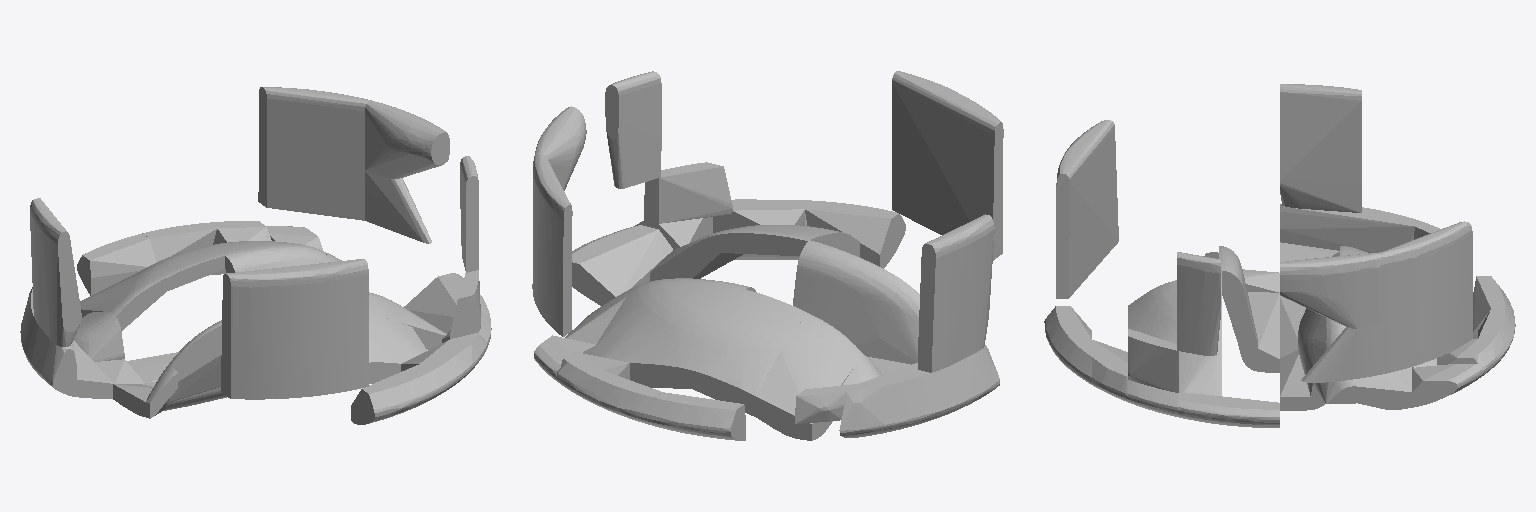
--- Render facts (derived) ---
3 views of the same robot in one strip: view 1: azimuth 30°, elevation 25°; view 2: azimuth 150°, elevation 25°; view 3: azimuth 270°, elevation 25° (orthographic).
Model root with 69 links and 68 joints (68 fixed), rooted at link_coacd_convex_piece_0, posed all joints at 0.
Visible links, largest first — view 1: link_coacd_convex_piece_10, link_coacd_convex_piece_5, link_coacd_convex_piece_2, link_coacd_convex_piece_29, link_coacd_convex_piece_56, link_coacd_convex_piece_40, link_coacd_convex_piece_16, link_coacd_convex_piece_15, link_coacd_convex_piece_21, link_coacd_convex_piece_12, link_coacd_convex_piece_35, link_coacd_convex_piece_34 (+18 smaller); view 2: link_coacd_convex_piece_10, link_coacd_convex_piece_4, link_coacd_convex_piece_15, link_coacd_convex_piece_2, link_coacd_convex_piece_32, link_coacd_convex_piece_35, link_coacd_convex_piece_21, link_coacd_convex_piece_5, link_coacd_convex_piece_36, link_coacd_convex_piece_34, link_coacd_convex_piece_55, link_coacd_convex_piece_56 (+14 smaller); view 3: link_coacd_convex_piece_5, link_coacd_convex_piece_2, link_coacd_convex_piece_10, link_coacd_convex_piece_29, link_coacd_convex_piece_35, link_coacd_convex_piece_36, link_coacd_convex_piece_16, link_coacd_convex_piece_34, link_coacd_convex_piece_55, link_coacd_convex_piece_56, link_coacd_convex_piece_23, link_coacd_convex_piece_12 (+15 smaller).
Link boxes in pixels (<box>): link_coacd_convex_piece_10: <box>221,259,368,399</box>; link_coacd_convex_piece_5: <box>258,87,371,220</box>; link_coacd_convex_piece_2: <box>30,198,81,346</box>; link_coacd_convex_piece_29: <box>365,101,449,178</box>; link_coacd_convex_piece_56: <box>351,355,472,424</box>; link_coacd_convex_piece_40: <box>77,234,156,295</box>; link_coacd_convex_piece_16: <box>365,171,431,243</box>; link_coacd_convex_piece_15: <box>167,320,221,402</box>; link_coacd_convex_piece_21: <box>80,272,166,331</box>; link_coacd_convex_piece_12: <box>369,315,426,383</box>; link_coacd_convex_piece_35: <box>20,287,76,385</box>; link_coacd_convex_piece_34: <box>404,273,489,333</box>; link_coacd_convex_piece_10: <box>892,71,1003,260</box>; link_coacd_convex_piece_4: <box>590,279,745,388</box>; link_coacd_convex_piece_15: <box>793,240,919,364</box>; link_coacd_convex_piece_2: <box>918,214,994,372</box>; link_coacd_convex_piece_32: <box>692,290,808,416</box>; link_coacd_convex_piece_35: <box>839,345,999,434</box>; link_coacd_convex_piece_21: <box>756,314,864,440</box>; link_coacd_convex_piece_5: <box>532,154,572,336</box>; link_coacd_convex_piece_36: <box>605,71,661,188</box>; link_coacd_convex_piece_34: <box>572,225,672,305</box>; link_coacd_convex_piece_55: <box>644,162,732,223</box>; link_coacd_convex_piece_56: <box>769,200,905,268</box>; link_coacd_convex_piece_5: <box>1381,221,1472,374</box>; link_coacd_convex_piece_2: <box>1280,84,1361,212</box>; link_coacd_convex_piece_10: <box>1056,120,1118,298</box>; link_coacd_convex_piece_29: <box>1280,252,1380,328</box>; link_coacd_convex_piece_35: <box>1280,204,1434,252</box>; link_coacd_convex_piece_36: <box>1177,252,1220,355</box>; link_coacd_convex_piece_16: <box>1301,324,1380,382</box>; link_coacd_convex_piece_34: <box>1179,392,1279,427</box>; link_coacd_convex_piece_55: <box>1128,329,1178,392</box>; link_coacd_convex_piece_56: <box>1044,306,1091,384</box>; link_coacd_convex_piece_23: <box>1238,292,1279,372</box>; link_coacd_convex_piece_12: <box>1128,280,1176,343</box>.
Bounding box of the posed robot: 0.1286 × 0.129 × 0.0606 m (x, y, z).
37 mesh visuals loaded from 69 distinct referenced files (37 OBJ); not drawn: 32 (reference not matched to a file when rendering).

URDF robot description (root):
<robot name="root">
  <link name="link_coacd_convex_piece_0">
    <inertial>
      <origin xyz="0 0 0" rpy="0 0 0"/>
      <inertia ixx="8.43E-09" ixy="2.54E-09" ixz="-7.29E-10" iyy="1.83E-09" iyz="2.19E-09" izz="8.88E-09"/>
    </inertial>
    <visual>
      <origin xyz="0 0 0" rpy="0 0 0"/>
      <geometry>
        <mesh filename="coacd_convex_piece_0.obj" scale="1.0000E+00 1.0000E+00 1.0000E+00"/>
      </geometry>
      <material name="">
        <color rgba="7.50E-01 7.50E-01 7.50E-01 1"/>
      </material>
    </visual>
    <collision>
      <origin xyz="0 0 0" rpy="0 0 0"/>
      <geometry>
        <mesh filename="coacd_convex_piece_0.obj" scale="1.0000E+00 1.0000E+00 1.0000E+00"/>
      </geometry>
    </collision>
  </link>
  <link name="link_coacd_convex_piece_1">
    <inertial>
      <origin xyz="0 0 0" rpy="0 0 0"/>
      <inertia ixx="2.42E-09" ixy="2.31E-09" ixz="-9.57E-10" iyy="3.14E-09" iyz="8.24E-10" izz="4.80E-09"/>
    </inertial>
    <visual>
      <origin xyz="0 0 0" rpy="0 0 0"/>
      <geometry>
        <mesh filename="coacd_convex_piece_1.obj" scale="1.0000E+00 1.0000E+00 1.0000E+00"/>
      </geometry>
      <material name="">
        <color rgba="7.50E-01 7.50E-01 7.50E-01 1"/>
      </material>
    </visual>
    <collision>
      <origin xyz="0 0 0" rpy="0 0 0"/>
      <geometry>
        <mesh filename="coacd_convex_piece_1.obj" scale="1.0000E+00 1.0000E+00 1.0000E+00"/>
      </geometry>
    </collision>
  </link>
  <joint name="link_coacd_convex_piece_1_joint" type="fixed">
    <origin xyz="0 0 0" rpy="0 0 0"/>
    <parent link="link_coacd_convex_piece_0"/>
    <child link="link_coacd_convex_piece_1"/>
  </joint>
  <link name="link_coacd_convex_piece_2">
    <inertial>
      <origin xyz="0 0 0" rpy="0 0 0"/>
      <inertia ixx="6.07E-10" ixy="1.21E-09" ixz="1.16E-09" iyy="6.83E-09" iyz="-2.22E-10" izz="6.83E-09"/>
    </inertial>
    <visual>
      <origin xyz="0 0 0" rpy="0 0 0"/>
      <geometry>
        <mesh filename="coacd_convex_piece_2.obj" scale="1.0000E+00 1.0000E+00 1.0000E+00"/>
      </geometry>
      <material name="">
        <color rgba="7.50E-01 7.50E-01 7.50E-01 1"/>
      </material>
    </visual>
    <collision>
      <origin xyz="0 0 0" rpy="0 0 0"/>
      <geometry>
        <mesh filename="coacd_convex_piece_2.obj" scale="1.0000E+00 1.0000E+00 1.0000E+00"/>
      </geometry>
    </collision>
  </link>
  <joint name="link_coacd_convex_piece_2_joint" type="fixed">
    <origin xyz="0 0 0" rpy="0 0 0"/>
    <parent link="link_coacd_convex_piece_1"/>
    <child link="link_coacd_convex_piece_2"/>
  </joint>
  <link name="link_coacd_convex_piece_3">
    <inertial>
      <origin xyz="0 0 0" rpy="0 0 0"/>
      <inertia ixx="2.71E-09" ixy="-2.70E-09" ixz="7.32E-10" iyy="3.40E-09" iyz="6.28E-10" izz="5.57E-09"/>
    </inertial>
    <visual>
      <origin xyz="0 0 0" rpy="0 0 0"/>
      <geometry>
        <mesh filename="coacd_convex_piece_3.obj" scale="1.0000E+00 1.0000E+00 1.0000E+00"/>
      </geometry>
      <material name="">
        <color rgba="7.50E-01 7.50E-01 7.50E-01 1"/>
      </material>
    </visual>
    <collision>
      <origin xyz="0 0 0" rpy="0 0 0"/>
      <geometry>
        <mesh filename="coacd_convex_piece_3.obj" scale="1.0000E+00 1.0000E+00 1.0000E+00"/>
      </geometry>
    </collision>
  </link>
  <joint name="link_coacd_convex_piece_3_joint" type="fixed">
    <origin xyz="0 0 0" rpy="0 0 0"/>
    <parent link="link_coacd_convex_piece_2"/>
    <child link="link_coacd_convex_piece_3"/>
  </joint>
  <link name="link_coacd_convex_piece_4">
    <inertial>
      <origin xyz="0 0 0" rpy="0 0 0"/>
      <inertia ixx="2.99E-09" ixy="-1.37E-09" ixz="5.23E-10" iyy="1.16E-09" iyz="9.21E-10" izz="3.71E-09"/>
    </inertial>
    <visual>
      <origin xyz="0 0 0" rpy="0 0 0"/>
      <geometry>
        <mesh filename="coacd_convex_piece_4.obj" scale="1.0000E+00 1.0000E+00 1.0000E+00"/>
      </geometry>
      <material name="">
        <color rgba="7.50E-01 7.50E-01 7.50E-01 1"/>
      </material>
    </visual>
    <collision>
      <origin xyz="0 0 0" rpy="0 0 0"/>
      <geometry>
        <mesh filename="coacd_convex_piece_4.obj" scale="1.0000E+00 1.0000E+00 1.0000E+00"/>
      </geometry>
    </collision>
  </link>
  <joint name="link_coacd_convex_piece_4_joint" type="fixed">
    <origin xyz="0 0 0" rpy="0 0 0"/>
    <parent link="link_coacd_convex_piece_3"/>
    <child link="link_coacd_convex_piece_4"/>
  </joint>
  <link name="link_coacd_convex_piece_5">
    <inertial>
      <origin xyz="0 0 0" rpy="0 0 0"/>
      <inertia ixx="4.35E-09" ixy="-3.95E-09" ixz="-1.20E-09" iyy="4.88E-09" iyz="-1.14E-09" izz="8.25E-09"/>
    </inertial>
    <visual>
      <origin xyz="0 0 0" rpy="0 0 0"/>
      <geometry>
        <mesh filename="coacd_convex_piece_5.obj" scale="1.0000E+00 1.0000E+00 1.0000E+00"/>
      </geometry>
      <material name="">
        <color rgba="7.50E-01 7.50E-01 7.50E-01 1"/>
      </material>
    </visual>
    <collision>
      <origin xyz="0 0 0" rpy="0 0 0"/>
      <geometry>
        <mesh filename="coacd_convex_piece_5.obj" scale="1.0000E+00 1.0000E+00 1.0000E+00"/>
      </geometry>
    </collision>
  </link>
  <joint name="link_coacd_convex_piece_5_joint" type="fixed">
    <origin xyz="0 0 0" rpy="0 0 0"/>
    <parent link="link_coacd_convex_piece_4"/>
    <child link="link_coacd_convex_piece_5"/>
  </joint>
  <link name="link_coacd_convex_piece_6">
    <inertial>
      <origin xyz="0 0 0" rpy="0 0 0"/>
      <inertia ixx="1.46E-09" ixy="-2.72E-09" ixz="1.82E-09" iyy="1.08E-08" iyz="4.65E-10" izz="1.13E-08"/>
    </inertial>
    <visual>
      <origin xyz="0 0 0" rpy="0 0 0"/>
      <geometry>
        <mesh filename="coacd_convex_piece_6.obj" scale="1.0000E+00 1.0000E+00 1.0000E+00"/>
      </geometry>
      <material name="">
        <color rgba="7.50E-01 7.50E-01 7.50E-01 1"/>
      </material>
    </visual>
    <collision>
      <origin xyz="0 0 0" rpy="0 0 0"/>
      <geometry>
        <mesh filename="coacd_convex_piece_6.obj" scale="1.0000E+00 1.0000E+00 1.0000E+00"/>
      </geometry>
    </collision>
  </link>
  <joint name="link_coacd_convex_piece_6_joint" type="fixed">
    <origin xyz="0 0 0" rpy="0 0 0"/>
    <parent link="link_coacd_convex_piece_5"/>
    <child link="link_coacd_convex_piece_6"/>
  </joint>
  <link name="link_coacd_convex_piece_7">
    <inertial>
      <origin xyz="0 0 0" rpy="0 0 0"/>
      <inertia ixx="1.11E-08" ixy="-2.91E-09" ixz="-4.55E-10" iyy="1.68E-09" iyz="-1.70E-09" izz="1.16E-08"/>
    </inertial>
    <visual>
      <origin xyz="0 0 0" rpy="0 0 0"/>
      <geometry>
        <mesh filename="coacd_convex_piece_7.obj" scale="1.0000E+00 1.0000E+00 1.0000E+00"/>
      </geometry>
      <material name="">
        <color rgba="7.50E-01 7.50E-01 7.50E-01 1"/>
      </material>
    </visual>
    <collision>
      <origin xyz="0 0 0" rpy="0 0 0"/>
      <geometry>
        <mesh filename="coacd_convex_piece_7.obj" scale="1.0000E+00 1.0000E+00 1.0000E+00"/>
      </geometry>
    </collision>
  </link>
  <joint name="link_coacd_convex_piece_7_joint" type="fixed">
    <origin xyz="0 0 0" rpy="0 0 0"/>
    <parent link="link_coacd_convex_piece_6"/>
    <child link="link_coacd_convex_piece_7"/>
  </joint>
  <link name="link_coacd_convex_piece_8">
    <inertial>
      <origin xyz="0 0 0" rpy="0 0 0"/>
      <inertia ixx="4.39E-09" ixy="4.63E-09" ixz="1.43E-09" iyy="6.62E-09" iyz="-1.12E-09" izz="1.00E-08"/>
    </inertial>
    <visual>
      <origin xyz="0 0 0" rpy="0 0 0"/>
      <geometry>
        <mesh filename="coacd_convex_piece_8.obj" scale="1.0000E+00 1.0000E+00 1.0000E+00"/>
      </geometry>
      <material name="">
        <color rgba="7.50E-01 7.50E-01 7.50E-01 1"/>
      </material>
    </visual>
    <collision>
      <origin xyz="0 0 0" rpy="0 0 0"/>
      <geometry>
        <mesh filename="coacd_convex_piece_8.obj" scale="1.0000E+00 1.0000E+00 1.0000E+00"/>
      </geometry>
    </collision>
  </link>
  <joint name="link_coacd_convex_piece_8_joint" type="fixed">
    <origin xyz="0 0 0" rpy="0 0 0"/>
    <parent link="link_coacd_convex_piece_7"/>
    <child link="link_coacd_convex_piece_8"/>
  </joint>
  <link name="link_coacd_convex_piece_9">
    <inertial>
      <origin xyz="0 0 0" rpy="0 0 0"/>
      <inertia ixx="1.26E-08" ixy="3.76E-09" ixz="6.31E-10" iyy="2.24E-09" iyz="-1.89E-09" izz="1.36E-08"/>
    </inertial>
    <visual>
      <origin xyz="0 0 0" rpy="0 0 0"/>
      <geometry>
        <mesh filename="coacd_convex_piece_9.obj" scale="1.0000E+00 1.0000E+00 1.0000E+00"/>
      </geometry>
      <material name="">
        <color rgba="7.50E-01 7.50E-01 7.50E-01 1"/>
      </material>
    </visual>
    <collision>
      <origin xyz="0 0 0" rpy="0 0 0"/>
      <geometry>
        <mesh filename="coacd_convex_piece_9.obj" scale="1.0000E+00 1.0000E+00 1.0000E+00"/>
      </geometry>
    </collision>
  </link>
  <joint name="link_coacd_convex_piece_9_joint" type="fixed">
    <origin xyz="0 0 0" rpy="0 0 0"/>
    <parent link="link_coacd_convex_piece_8"/>
    <child link="link_coacd_convex_piece_9"/>
  </joint>
  <link name="link_coacd_convex_piece_10">
    <inertial>
      <origin xyz="0 0 0" rpy="0 0 0"/>
      <inertia ixx="1.24E-08" ixy="-3.92E-09" ixz="7.95E-10" iyy="2.49E-09" iyz="2.22E-09" izz="1.35E-08"/>
    </inertial>
    <visual>
      <origin xyz="0 0 0" rpy="0 0 0"/>
      <geometry>
        <mesh filename="coacd_convex_piece_10.obj" scale="1.0000E+00 1.0000E+00 1.0000E+00"/>
      </geometry>
      <material name="">
        <color rgba="7.50E-01 7.50E-01 7.50E-01 1"/>
      </material>
    </visual>
    <collision>
      <origin xyz="0 0 0" rpy="0 0 0"/>
      <geometry>
        <mesh filename="coacd_convex_piece_10.obj" scale="1.0000E+00 1.0000E+00 1.0000E+00"/>
      </geometry>
    </collision>
  </link>
  <joint name="link_coacd_convex_piece_10_joint" type="fixed">
    <origin xyz="0 0 0" rpy="0 0 0"/>
    <parent link="link_coacd_convex_piece_9"/>
    <child link="link_coacd_convex_piece_10"/>
  </joint>
  <link name="link_coacd_convex_piece_11">
    <inertial>
      <origin xyz="0 0 0" rpy="0 0 0"/>
      <inertia ixx="7.03E-10" ixy="1.09E-10" ixz="-4.55E-10" iyy="1.06E-09" iyz="1.51E-10" izz="4.53E-10"/>
    </inertial>
    <visual>
      <origin xyz="0 0 0" rpy="0 0 0"/>
      <geometry>
        <mesh filename="coacd_convex_piece_11.obj" scale="1.0000E+00 1.0000E+00 1.0000E+00"/>
      </geometry>
      <material name="">
        <color rgba="7.50E-01 7.50E-01 7.50E-01 1"/>
      </material>
    </visual>
    <collision>
      <origin xyz="0 0 0" rpy="0 0 0"/>
      <geometry>
        <mesh filename="coacd_convex_piece_11.obj" scale="1.0000E+00 1.0000E+00 1.0000E+00"/>
      </geometry>
    </collision>
  </link>
  <joint name="link_coacd_convex_piece_11_joint" type="fixed">
    <origin xyz="0 0 0" rpy="0 0 0"/>
    <parent link="link_coacd_convex_piece_10"/>
    <child link="link_coacd_convex_piece_11"/>
  </joint>
  <link name="link_coacd_convex_piece_12">
    <inertial>
      <origin xyz="0 0 0" rpy="0 0 0"/>
      <inertia ixx="1.92E-09" ixy="8.40E-10" ixz="3.29E-10" iyy="6.88E-10" iyz="-6.07E-10" izz="2.29E-09"/>
    </inertial>
    <visual>
      <origin xyz="0 0 0" rpy="0 0 0"/>
      <geometry>
        <mesh filename="coacd_convex_piece_12.obj" scale="1.0000E+00 1.0000E+00 1.0000E+00"/>
      </geometry>
      <material name="">
        <color rgba="7.50E-01 7.50E-01 7.50E-01 1"/>
      </material>
    </visual>
    <collision>
      <origin xyz="0 0 0" rpy="0 0 0"/>
      <geometry>
        <mesh filename="coacd_convex_piece_12.obj" scale="1.0000E+00 1.0000E+00 1.0000E+00"/>
      </geometry>
    </collision>
  </link>
  <joint name="link_coacd_convex_piece_12_joint" type="fixed">
    <origin xyz="0 0 0" rpy="0 0 0"/>
    <parent link="link_coacd_convex_piece_11"/>
    <child link="link_coacd_convex_piece_12"/>
  </joint>
  <link name="link_coacd_convex_piece_13">
    <inertial>
      <origin xyz="0 0 0" rpy="0 0 0"/>
      <inertia ixx="9.13E-10" ixy="1.00E-09" ixz="-1.28E-09" iyy="3.75E-09" iyz="3.92E-10" izz="3.74E-09"/>
    </inertial>
    <visual>
      <origin xyz="0 0 0" rpy="0 0 0"/>
      <geometry>
        <mesh filename="coacd_convex_piece_13.obj" scale="1.0000E+00 1.0000E+00 1.0000E+00"/>
      </geometry>
      <material name="">
        <color rgba="7.50E-01 7.50E-01 7.50E-01 1"/>
      </material>
    </visual>
    <collision>
      <origin xyz="0 0 0" rpy="0 0 0"/>
      <geometry>
        <mesh filename="coacd_convex_piece_13.obj" scale="1.0000E+00 1.0000E+00 1.0000E+00"/>
      </geometry>
    </collision>
  </link>
  <joint name="link_coacd_convex_piece_13_joint" type="fixed">
    <origin xyz="0 0 0" rpy="0 0 0"/>
    <parent link="link_coacd_convex_piece_12"/>
    <child link="link_coacd_convex_piece_13"/>
  </joint>
  <link name="link_coacd_convex_piece_14">
    <inertial>
      <origin xyz="0 0 0" rpy="0 0 0"/>
      <inertia ixx="2.77E-09" ixy="-5.36E-10" ixz="1.52E-10" iyy="3.27E-10" iyz="7.07E-10" izz="2.76E-09"/>
    </inertial>
    <visual>
      <origin xyz="0 0 0" rpy="0 0 0"/>
      <geometry>
        <mesh filename="coacd_convex_piece_14.obj" scale="1.0000E+00 1.0000E+00 1.0000E+00"/>
      </geometry>
      <material name="">
        <color rgba="7.50E-01 7.50E-01 7.50E-01 1"/>
      </material>
    </visual>
    <collision>
      <origin xyz="0 0 0" rpy="0 0 0"/>
      <geometry>
        <mesh filename="coacd_convex_piece_14.obj" scale="1.0000E+00 1.0000E+00 1.0000E+00"/>
      </geometry>
    </collision>
  </link>
  <joint name="link_coacd_convex_piece_14_joint" type="fixed">
    <origin xyz="0 0 0" rpy="0 0 0"/>
    <parent link="link_coacd_convex_piece_13"/>
    <child link="link_coacd_convex_piece_14"/>
  </joint>
  <link name="link_coacd_convex_piece_15">
    <inertial>
      <origin xyz="0 0 0" rpy="0 0 0"/>
      <inertia ixx="6.27E-10" ixy="-3.99E-10" ixz="-4.21E-10" iyy="1.01E-09" iyz="-3.09E-10" izz="9.96E-10"/>
    </inertial>
    <visual>
      <origin xyz="0 0 0" rpy="0 0 0"/>
      <geometry>
        <mesh filename="coacd_convex_piece_15.obj" scale="1.0000E+00 1.0000E+00 1.0000E+00"/>
      </geometry>
      <material name="">
        <color rgba="7.50E-01 7.50E-01 7.50E-01 1"/>
      </material>
    </visual>
    <collision>
      <origin xyz="0 0 0" rpy="0 0 0"/>
      <geometry>
        <mesh filename="coacd_convex_piece_15.obj" scale="1.0000E+00 1.0000E+00 1.0000E+00"/>
      </geometry>
    </collision>
  </link>
  <joint name="link_coacd_convex_piece_15_joint" type="fixed">
    <origin xyz="0 0 0" rpy="0 0 0"/>
    <parent link="link_coacd_convex_piece_14"/>
    <child link="link_coacd_convex_piece_15"/>
  </joint>
  <link name="link_coacd_convex_piece_16">
    <inertial>
      <origin xyz="0 0 0" rpy="0 0 0"/>
      <inertia ixx="1.78E-10" ixy="-4.85E-10" ixz="-1.95E-11" iyy="1.33E-09" iyz="-1.31E-11" izz="1.53E-09"/>
    </inertial>
    <visual>
      <origin xyz="0 0 0" rpy="0 0 0"/>
      <geometry>
        <mesh filename="coacd_convex_piece_16.obj" scale="1.0000E+00 1.0000E+00 1.0000E+00"/>
      </geometry>
      <material name="">
        <color rgba="7.50E-01 7.50E-01 7.50E-01 1"/>
      </material>
    </visual>
    <collision>
      <origin xyz="0 0 0" rpy="0 0 0"/>
      <geometry>
        <mesh filename="coacd_convex_piece_16.obj" scale="1.0000E+00 1.0000E+00 1.0000E+00"/>
      </geometry>
    </collision>
  </link>
  <joint name="link_coacd_convex_piece_16_joint" type="fixed">
    <origin xyz="0 0 0" rpy="0 0 0"/>
    <parent link="link_coacd_convex_piece_15"/>
    <child link="link_coacd_convex_piece_16"/>
  </joint>
  <link name="link_coacd_convex_piece_17">
    <inertial>
      <origin xyz="0 0 0" rpy="0 0 0"/>
      <inertia ixx="1.73E-09" ixy="-1.33E-09" ixz="-6.17E-10" iyy="1.56E-09" iyz="-6.81E-10" izz="2.76E-09"/>
    </inertial>
    <visual>
      <origin xyz="0 0 0" rpy="0 0 0"/>
      <geometry>
        <mesh filename="coacd_convex_piece_17.obj" scale="1.0000E+00 1.0000E+00 1.0000E+00"/>
      </geometry>
      <material name="">
        <color rgba="7.50E-01 7.50E-01 7.50E-01 1"/>
      </material>
    </visual>
    <collision>
      <origin xyz="0 0 0" rpy="0 0 0"/>
      <geometry>
        <mesh filename="coacd_convex_piece_17.obj" scale="1.0000E+00 1.0000E+00 1.0000E+00"/>
      </geometry>
    </collision>
  </link>
  <joint name="link_coacd_convex_piece_17_joint" type="fixed">
    <origin xyz="0 0 0" rpy="0 0 0"/>
    <parent link="link_coacd_convex_piece_16"/>
    <child link="link_coacd_convex_piece_17"/>
  </joint>
  <link name="link_coacd_convex_piece_18">
    <inertial>
      <origin xyz="0 0 0" rpy="0 0 0"/>
      <inertia ixx="5.96E-10" ixy="-7.78E-11" ixz="3.53E-10" iyy="8.34E-10" iyz="1.23E-10" izz="3.11E-10"/>
    </inertial>
    <visual>
      <origin xyz="0 0 0" rpy="0 0 0"/>
      <geometry>
        <mesh filename="coacd_convex_piece_18.obj" scale="1.0000E+00 1.0000E+00 1.0000E+00"/>
      </geometry>
      <material name="">
        <color rgba="7.50E-01 7.50E-01 7.50E-01 1"/>
      </material>
    </visual>
    <collision>
      <origin xyz="0 0 0" rpy="0 0 0"/>
      <geometry>
        <mesh filename="coacd_convex_piece_18.obj" scale="1.0000E+00 1.0000E+00 1.0000E+00"/>
      </geometry>
    </collision>
  </link>
  <joint name="link_coacd_convex_piece_18_joint" type="fixed">
    <origin xyz="0 0 0" rpy="0 0 0"/>
    <parent link="link_coacd_convex_piece_17"/>
    <child link="link_coacd_convex_piece_18"/>
  </joint>
  <link name="link_coacd_convex_piece_19">
    <inertial>
      <origin xyz="0 0 0" rpy="0 0 0"/>
      <inertia ixx="6.46E-10" ixy="3.77E-10" ixz="-4.28E-10" iyy="1.00E-09" iyz="3.00E-10" izz="9.37E-10"/>
    </inertial>
    <visual>
      <origin xyz="0 0 0" rpy="0 0 0"/>
      <geometry>
        <mesh filename="coacd_convex_piece_19.obj" scale="1.0000E+00 1.0000E+00 1.0000E+00"/>
      </geometry>
      <material name="">
        <color rgba="7.50E-01 7.50E-01 7.50E-01 1"/>
      </material>
    </visual>
    <collision>
      <origin xyz="0 0 0" rpy="0 0 0"/>
      <geometry>
        <mesh filename="coacd_convex_piece_19.obj" scale="1.0000E+00 1.0000E+00 1.0000E+00"/>
      </geometry>
    </collision>
  </link>
  <joint name="link_coacd_convex_piece_19_joint" type="fixed">
    <origin xyz="0 0 0" rpy="0 0 0"/>
    <parent link="link_coacd_convex_piece_18"/>
    <child link="link_coacd_convex_piece_19"/>
  </joint>
  <link name="link_coacd_convex_piece_20">
    <inertial>
      <origin xyz="0 0 0" rpy="0 0 0"/>
      <inertia ixx="4.47E-09" ixy="1.82E-09" ixz="1.78E-10" iyy="1.01E-09" iyz="-3.87E-10" izz="5.51E-09"/>
    </inertial>
    <visual>
      <origin xyz="0 0 0" rpy="0 0 0"/>
      <geometry>
        <mesh filename="coacd_convex_piece_20.obj" scale="1.0000E+00 1.0000E+00 1.0000E+00"/>
      </geometry>
      <material name="">
        <color rgba="7.50E-01 7.50E-01 7.50E-01 1"/>
      </material>
    </visual>
    <collision>
      <origin xyz="0 0 0" rpy="0 0 0"/>
      <geometry>
        <mesh filename="coacd_convex_piece_20.obj" scale="1.0000E+00 1.0000E+00 1.0000E+00"/>
      </geometry>
    </collision>
  </link>
  <joint name="link_coacd_convex_piece_20_joint" type="fixed">
    <origin xyz="0 0 0" rpy="0 0 0"/>
    <parent link="link_coacd_convex_piece_19"/>
    <child link="link_coacd_convex_piece_20"/>
  </joint>
  <link name="link_coacd_convex_piece_21">
    <inertial>
      <origin xyz="0 0 0" rpy="0 0 0"/>
      <inertia ixx="1.62E-09" ixy="1.18E-09" ixz="-5.35E-10" iyy="1.33E-09" iyz="6.21E-10" izz="2.49E-09"/>
    </inertial>
    <visual>
      <origin xyz="0 0 0" rpy="0 0 0"/>
      <geometry>
        <mesh filename="coacd_convex_piece_21.obj" scale="1.0000E+00 1.0000E+00 1.0000E+00"/>
      </geometry>
      <material name="">
        <color rgba="7.50E-01 7.50E-01 7.50E-01 1"/>
      </material>
    </visual>
    <collision>
      <origin xyz="0 0 0" rpy="0 0 0"/>
      <geometry>
        <mesh filename="coacd_convex_piece_21.obj" scale="1.0000E+00 1.0000E+00 1.0000E+00"/>
      </geometry>
    </collision>
  </link>
  <joint name="link_coacd_convex_piece_21_joint" type="fixed">
    <origin xyz="0 0 0" rpy="0 0 0"/>
    <parent link="link_coacd_convex_piece_20"/>
    <child link="link_coacd_convex_piece_21"/>
  </joint>
  <link name="link_coacd_convex_piece_22">
    <inertial>
      <origin xyz="0 0 0" rpy="0 0 0"/>
      <inertia ixx="9.97E-10" ixy="-1.60E-09" ixz="-1.03E-09" iyy="4.65E-09" iyz="-3.94E-10" izz="5.26E-09"/>
    </inertial>
    <visual>
      <origin xyz="0 0 0" rpy="0 0 0"/>
      <geometry>
        <mesh filename="coacd_convex_piece_22.obj" scale="1.0000E+00 1.0000E+00 1.0000E+00"/>
      </geometry>
      <material name="">
        <color rgba="7.50E-01 7.50E-01 7.50E-01 1"/>
      </material>
    </visual>
    <collision>
      <origin xyz="0 0 0" rpy="0 0 0"/>
      <geometry>
        <mesh filename="coacd_convex_piece_22.obj" scale="1.0000E+00 1.0000E+00 1.0000E+00"/>
      </geometry>
    </collision>
  </link>
  <joint name="link_coacd_convex_piece_22_joint" type="fixed">
    <origin xyz="0 0 0" rpy="0 0 0"/>
    <parent link="link_coacd_convex_piece_21"/>
    <child link="link_coacd_convex_piece_22"/>
  </joint>
  <link name="link_coacd_convex_piece_23">
    <inertial>
      <origin xyz="0 0 0" rpy="0 0 0"/>
      <inertia ixx="7.75E-10" ixy="-1.27E-10" ixz="-5.17E-10" iyy="1.21E-09" iyz="-1.77E-10" izz="5.39E-10"/>
    </inertial>
    <visual>
      <origin xyz="0 0 0" rpy="0 0 0"/>
      <geometry>
        <mesh filename="coacd_convex_piece_23.obj" scale="1.0000E+00 1.0000E+00 1.0000E+00"/>
      </geometry>
      <material name="">
        <color rgba="7.50E-01 7.50E-01 7.50E-01 1"/>
      </material>
    </visual>
    <collision>
      <origin xyz="0 0 0" rpy="0 0 0"/>
      <geometry>
        <mesh filename="coacd_convex_piece_23.obj" scale="1.0000E+00 1.0000E+00 1.0000E+00"/>
      </geometry>
    </collision>
  </link>
  <joint name="link_coacd_convex_piece_23_joint" type="fixed">
    <origin xyz="0 0 0" rpy="0 0 0"/>
    <parent link="link_coacd_convex_piece_22"/>
    <child link="link_coacd_convex_piece_23"/>
  </joint>
  <link name="link_coacd_convex_piece_24">
    <inertial>
      <origin xyz="0 0 0" rpy="0 0 0"/>
      <inertia ixx="2.57E-10" ixy="1.89E-10" ixz="-5.59E-10" iyy="1.57E-09" iyz="7.67E-11" izz="1.38E-09"/>
    </inertial>
    <visual>
      <origin xyz="0 0 0" rpy="0 0 0"/>
      <geometry>
        <mesh filename="coacd_convex_piece_24.obj" scale="1.0000E+00 1.0000E+00 1.0000E+00"/>
      </geometry>
      <material name="">
        <color rgba="7.50E-01 7.50E-01 7.50E-01 1"/>
      </material>
    </visual>
    <collision>
      <origin xyz="0 0 0" rpy="0 0 0"/>
      <geometry>
        <mesh filename="coacd_convex_piece_24.obj" scale="1.0000E+00 1.0000E+00 1.0000E+00"/>
      </geometry>
    </collision>
  </link>
  <joint name="link_coacd_convex_piece_24_joint" type="fixed">
    <origin xyz="0 0 0" rpy="0 0 0"/>
    <parent link="link_coacd_convex_piece_23"/>
    <child link="link_coacd_convex_piece_24"/>
  </joint>
  <link name="link_coacd_convex_piece_25">
    <inertial>
      <origin xyz="0 0 0" rpy="0 0 0"/>
      <inertia ixx="2.10E-09" ixy="1.04E-09" ixz="-3.46E-10" iyy="7.74E-10" iyz="6.34E-10" izz="2.49E-09"/>
    </inertial>
    <visual>
      <origin xyz="0 0 0" rpy="0 0 0"/>
      <geometry>
        <mesh filename="coacd_convex_piece_25.obj" scale="1.0000E+00 1.0000E+00 1.0000E+00"/>
      </geometry>
      <material name="">
        <color rgba="7.50E-01 7.50E-01 7.50E-01 1"/>
      </material>
    </visual>
    <collision>
      <origin xyz="0 0 0" rpy="0 0 0"/>
      <geometry>
        <mesh filename="coacd_convex_piece_25.obj" scale="1.0000E+00 1.0000E+00 1.0000E+00"/>
      </geometry>
    </collision>
  </link>
  <joint name="link_coacd_convex_piece_25_joint" type="fixed">
    <origin xyz="0 0 0" rpy="0 0 0"/>
    <parent link="link_coacd_convex_piece_24"/>
    <child link="link_coacd_convex_piece_25"/>
  </joint>
  <link name="link_coacd_convex_piece_26">
    <inertial>
      <origin xyz="0 0 0" rpy="0 0 0"/>
      <inertia ixx="1.78E-09" ixy="-5.43E-10" ixz="-1.51E-10" iyy="3.29E-10" iyz="-5.04E-10" izz="1.94E-09"/>
    </inertial>
    <visual>
      <origin xyz="0 0 0" rpy="0 0 0"/>
      <geometry>
        <mesh filename="coacd_convex_piece_26.obj" scale="1.0000E+00 1.0000E+00 1.0000E+00"/>
      </geometry>
      <material name="">
        <color rgba="7.50E-01 7.50E-01 7.50E-01 1"/>
      </material>
    </visual>
    <collision>
      <origin xyz="0 0 0" rpy="0 0 0"/>
      <geometry>
        <mesh filename="coacd_convex_piece_26.obj" scale="1.0000E+00 1.0000E+00 1.0000E+00"/>
      </geometry>
    </collision>
  </link>
  <joint name="link_coacd_convex_piece_26_joint" type="fixed">
    <origin xyz="0 0 0" rpy="0 0 0"/>
    <parent link="link_coacd_convex_piece_25"/>
    <child link="link_coacd_convex_piece_26"/>
  </joint>
  <link name="link_coacd_convex_piece_27">
    <inertial>
      <origin xyz="0 0 0" rpy="0 0 0"/>
      <inertia ixx="5.86E-10" ixy="-3.33E-10" ixz="4.06E-10" iyy="8.86E-10" iyz="2.68E-10" izz="8.27E-10"/>
    </inertial>
    <visual>
      <origin xyz="0 0 0" rpy="0 0 0"/>
      <geometry>
        <mesh filename="coacd_convex_piece_27.obj" scale="1.0000E+00 1.0000E+00 1.0000E+00"/>
      </geometry>
      <material name="">
        <color rgba="7.50E-01 7.50E-01 7.50E-01 1"/>
      </material>
    </visual>
    <collision>
      <origin xyz="0 0 0" rpy="0 0 0"/>
      <geometry>
        <mesh filename="coacd_convex_piece_27.obj" scale="1.0000E+00 1.0000E+00 1.0000E+00"/>
      </geometry>
    </collision>
  </link>
  <joint name="link_coacd_convex_piece_27_joint" type="fixed">
    <origin xyz="0 0 0" rpy="0 0 0"/>
    <parent link="link_coacd_convex_piece_26"/>
    <child link="link_coacd_convex_piece_27"/>
  </joint>
  <link name="link_coacd_convex_piece_28">
    <inertial>
      <origin xyz="0 0 0" rpy="0 0 0"/>
      <inertia ixx="1.64E-09" ixy="-2.02E-09" ixz="2.01E-09" iyy="6.46E-09" iyz="6.87E-10" izz="6.87E-09"/>
    </inertial>
    <visual>
      <origin xyz="0 0 0" rpy="0 0 0"/>
      <geometry>
        <mesh filename="coacd_convex_piece_28.obj" scale="1.0000E+00 1.0000E+00 1.0000E+00"/>
      </geometry>
      <material name="">
        <color rgba="7.50E-01 7.50E-01 7.50E-01 1"/>
      </material>
    </visual>
    <collision>
      <origin xyz="0 0 0" rpy="0 0 0"/>
      <geometry>
        <mesh filename="coacd_convex_piece_28.obj" scale="1.0000E+00 1.0000E+00 1.0000E+00"/>
      </geometry>
    </collision>
  </link>
  <joint name="link_coacd_convex_piece_28_joint" type="fixed">
    <origin xyz="0 0 0" rpy="0 0 0"/>
    <parent link="link_coacd_convex_piece_27"/>
    <child link="link_coacd_convex_piece_28"/>
  </joint>
  <link name="link_coacd_convex_piece_29">
    <inertial>
      <origin xyz="0 0 0" rpy="0 0 0"/>
      <inertia ixx="9.90E-10" ixy="-1.11E-09" ixz="-1.61E-09" iyy="4.73E-09" iyz="-4.29E-10" izz="4.49E-09"/>
    </inertial>
    <visual>
      <origin xyz="0 0 0" rpy="0 0 0"/>
      <geometry>
        <mesh filename="coacd_convex_piece_29.obj" scale="1.0000E+00 1.0000E+00 1.0000E+00"/>
      </geometry>
      <material name="">
        <color rgba="7.50E-01 7.50E-01 7.50E-01 1"/>
      </material>
    </visual>
    <collision>
      <origin xyz="0 0 0" rpy="0 0 0"/>
      <geometry>
        <mesh filename="coacd_convex_piece_29.obj" scale="1.0000E+00 1.0000E+00 1.0000E+00"/>
      </geometry>
    </collision>
  </link>
  <joint name="link_coacd_convex_piece_29_joint" type="fixed">
    <origin xyz="0 0 0" rpy="0 0 0"/>
    <parent link="link_coacd_convex_piece_28"/>
    <child link="link_coacd_convex_piece_29"/>
  </joint>
  <link name="link_coacd_convex_piece_30">
    <inertial>
      <origin xyz="0 0 0" rpy="0 0 0"/>
      <inertia ixx="1.41E-09" ixy="-1.23E-09" ixz="-4.49E-10" iyy="1.38E-09" iyz="-4.59E-10" izz="2.49E-09"/>
    </inertial>
    <visual>
      <origin xyz="0 0 0" rpy="0 0 0"/>
      <geometry>
        <mesh filename="coacd_convex_piece_30.obj" scale="1.0000E+00 1.0000E+00 1.0000E+00"/>
      </geometry>
      <material name="">
        <color rgba="7.50E-01 7.50E-01 7.50E-01 1"/>
      </material>
    </visual>
    <collision>
      <origin xyz="0 0 0" rpy="0 0 0"/>
      <geometry>
        <mesh filename="coacd_convex_piece_30.obj" scale="1.0000E+00 1.0000E+00 1.0000E+00"/>
      </geometry>
    </collision>
  </link>
  <joint name="link_coacd_convex_piece_30_joint" type="fixed">
    <origin xyz="0 0 0" rpy="0 0 0"/>
    <parent link="link_coacd_convex_piece_29"/>
    <child link="link_coacd_convex_piece_30"/>
  </joint>
  <link name="link_coacd_convex_piece_31">
    <inertial>
      <origin xyz="0 0 0" rpy="0 0 0"/>
      <inertia ixx="2.52E-10" ixy="6.82E-10" ixz="3.09E-10" iyy="2.47E-09" iyz="-8.17E-11" izz="2.69E-09"/>
    </inertial>
    <visual>
      <origin xyz="0 0 0" rpy="0 0 0"/>
      <geometry>
        <mesh filename="coacd_convex_piece_31.obj" scale="1.0000E+00 1.0000E+00 1.0000E+00"/>
      </geometry>
      <material name="">
        <color rgba="7.50E-01 7.50E-01 7.50E-01 1"/>
      </material>
    </visual>
    <collision>
      <origin xyz="0 0 0" rpy="0 0 0"/>
      <geometry>
        <mesh filename="coacd_convex_piece_31.obj" scale="1.0000E+00 1.0000E+00 1.0000E+00"/>
      </geometry>
    </collision>
  </link>
  <joint name="link_coacd_convex_piece_31_joint" type="fixed">
    <origin xyz="0 0 0" rpy="0 0 0"/>
    <parent link="link_coacd_convex_piece_30"/>
    <child link="link_coacd_convex_piece_31"/>
  </joint>
  <link name="link_coacd_convex_piece_32">
    <inertial>
      <origin xyz="0 0 0" rpy="0 0 0"/>
      <inertia ixx="1.52E-09" ixy="4.30E-10" ixz="-1.15E-10" iyy="2.44E-10" iyz="4.15E-10" izz="1.63E-09"/>
    </inertial>
    <visual>
      <origin xyz="0 0 0" rpy="0 0 0"/>
      <geometry>
        <mesh filename="coacd_convex_piece_32.obj" scale="1.0000E+00 1.0000E+00 1.0000E+00"/>
      </geometry>
      <material name="">
        <color rgba="7.50E-01 7.50E-01 7.50E-01 1"/>
      </material>
    </visual>
    <collision>
      <origin xyz="0 0 0" rpy="0 0 0"/>
      <geometry>
        <mesh filename="coacd_convex_piece_32.obj" scale="1.0000E+00 1.0000E+00 1.0000E+00"/>
      </geometry>
    </collision>
  </link>
  <joint name="link_coacd_convex_piece_32_joint" type="fixed">
    <origin xyz="0 0 0" rpy="0 0 0"/>
    <parent link="link_coacd_convex_piece_31"/>
    <child link="link_coacd_convex_piece_32"/>
  </joint>
  <link name="link_coacd_convex_piece_33">
    <inertial>
      <origin xyz="0 0 0" rpy="0 0 0"/>
      <inertia ixx="6.99E-10" ixy="-1.16E-09" ixz="5.28E-10" iyy="2.98E-09" iyz="2.13E-10" izz="3.57E-09"/>
    </inertial>
    <visual>
      <origin xyz="0 0 0" rpy="0 0 0"/>
      <geometry>
        <mesh filename="coacd_convex_piece_33.obj" scale="1.0000E+00 1.0000E+00 1.0000E+00"/>
      </geometry>
      <material name="">
        <color rgba="7.50E-01 7.50E-01 7.50E-01 1"/>
      </material>
    </visual>
    <collision>
      <origin xyz="0 0 0" rpy="0 0 0"/>
      <geometry>
        <mesh filename="coacd_convex_piece_33.obj" scale="1.0000E+00 1.0000E+00 1.0000E+00"/>
      </geometry>
    </collision>
  </link>
  <joint name="link_coacd_convex_piece_33_joint" type="fixed">
    <origin xyz="0 0 0" rpy="0 0 0"/>
    <parent link="link_coacd_convex_piece_32"/>
    <child link="link_coacd_convex_piece_33"/>
  </joint>
  <link name="link_coacd_convex_piece_34">
    <inertial>
      <origin xyz="0 0 0" rpy="0 0 0"/>
      <inertia ixx="6.33E-10" ixy="8.80E-10" ixz="1.20E-09" iyy="4.07E-09" iyz="-2.89E-10" izz="4.02E-09"/>
    </inertial>
    <visual>
      <origin xyz="0 0 0" rpy="0 0 0"/>
      <geometry>
        <mesh filename="coacd_convex_piece_34.obj" scale="1.0000E+00 1.0000E+00 1.0000E+00"/>
      </geometry>
      <material name="">
        <color rgba="7.50E-01 7.50E-01 7.50E-01 1"/>
      </material>
    </visual>
    <collision>
      <origin xyz="0 0 0" rpy="0 0 0"/>
      <geometry>
        <mesh filename="coacd_convex_piece_34.obj" scale="1.0000E+00 1.0000E+00 1.0000E+00"/>
      </geometry>
    </collision>
  </link>
  <joint name="link_coacd_convex_piece_34_joint" type="fixed">
    <origin xyz="0 0 0" rpy="0 0 0"/>
    <parent link="link_coacd_convex_piece_33"/>
    <child link="link_coacd_convex_piece_34"/>
  </joint>
  <link name="link_coacd_convex_piece_35">
    <inertial>
      <origin xyz="0 0 0" rpy="0 0 0"/>
      <inertia ixx="1.10E-09" ixy="1.74E-09" ixz="-1.09E-09" iyy="4.96E-09" iyz="4.17E-10" izz="5.65E-09"/>
    </inertial>
    <visual>
      <origin xyz="0 0 0" rpy="0 0 0"/>
      <geometry>
        <mesh filename="coacd_convex_piece_35.obj" scale="1.0000E+00 1.0000E+00 1.0000E+00"/>
      </geometry>
      <material name="">
        <color rgba="7.50E-01 7.50E-01 7.50E-01 1"/>
      </material>
    </visual>
    <collision>
      <origin xyz="0 0 0" rpy="0 0 0"/>
      <geometry>
        <mesh filename="coacd_convex_piece_35.obj" scale="1.0000E+00 1.0000E+00 1.0000E+00"/>
      </geometry>
    </collision>
  </link>
  <joint name="link_coacd_convex_piece_35_joint" type="fixed">
    <origin xyz="0 0 0" rpy="0 0 0"/>
    <parent link="link_coacd_convex_piece_34"/>
    <child link="link_coacd_convex_piece_35"/>
  </joint>
  <link name="link_coacd_convex_piece_36">
    <inertial>
      <origin xyz="0 0 0" rpy="0 0 0"/>
      <inertia ixx="5.06E-10" ixy="7.73E-10" ixz="-5.52E-10" iyy="2.07E-09" iyz="2.26E-10" izz="2.22E-09"/>
    </inertial>
    <visual>
      <origin xyz="0 0 0" rpy="0 0 0"/>
      <geometry>
        <mesh filename="coacd_convex_piece_36.obj" scale="1.0000E+00 1.0000E+00 1.0000E+00"/>
      </geometry>
      <material name="">
        <color rgba="7.50E-01 7.50E-01 7.50E-01 1"/>
      </material>
    </visual>
    <collision>
      <origin xyz="0 0 0" rpy="0 0 0"/>
      <geometry>
        <mesh filename="coacd_convex_piece_36.obj" scale="1.0000E+00 1.0000E+00 1.0000E+00"/>
      </geometry>
    </collision>
  </link>
  <joint name="link_coacd_convex_piece_36_joint" type="fixed">
    <origin xyz="0 0 0" rpy="0 0 0"/>
    <parent link="link_coacd_convex_piece_35"/>
    <child link="link_coacd_convex_piece_36"/>
  </joint>
  <link name="link_coacd_convex_piece_37">
    <inertial>
      <origin xyz="0 0 0" rpy="0 0 0"/>
      <inertia ixx="8.26E-10" ixy="-9.23E-10" ixz="-1.18E-09" iyy="3.53E-09" iyz="-3.62E-10" izz="3.51E-09"/>
    </inertial>
    <visual>
      <origin xyz="0 0 0" rpy="0 0 0"/>
      <geometry>
        <mesh filename="coacd_convex_piece_37.obj" scale="1.0000E+00 1.0000E+00 1.0000E+00"/>
      </geometry>
      <material name="">
        <color rgba="7.50E-01 7.50E-01 7.50E-01 1"/>
      </material>
    </visual>
    <collision>
      <origin xyz="0 0 0" rpy="0 0 0"/>
      <geometry>
        <mesh filename="coacd_convex_piece_37.obj" scale="1.0000E+00 1.0000E+00 1.0000E+00"/>
      </geometry>
    </collision>
  </link>
  <joint name="link_coacd_convex_piece_37_joint" type="fixed">
    <origin xyz="0 0 0" rpy="0 0 0"/>
    <parent link="link_coacd_convex_piece_36"/>
    <child link="link_coacd_convex_piece_37"/>
  </joint>
  <link name="link_coacd_convex_piece_38">
    <inertial>
      <origin xyz="0 0 0" rpy="0 0 0"/>
      <inertia ixx="1.70E-10" ixy="-2.14E-10" ixz="2.01E-10" iyy="5.45E-10" iyz="8.69E-11" izz="5.74E-10"/>
    </inertial>
    <visual>
      <origin xyz="0 0 0" rpy="0 0 0"/>
      <geometry>
        <mesh filename="coacd_convex_piece_38.obj" scale="1.0000E+00 1.0000E+00 1.0000E+00"/>
      </geometry>
      <material name="">
        <color rgba="7.50E-01 7.50E-01 7.50E-01 1"/>
      </material>
    </visual>
    <collision>
      <origin xyz="0 0 0" rpy="0 0 0"/>
      <geometry>
        <mesh filename="coacd_convex_piece_38.obj" scale="1.0000E+00 1.0000E+00 1.0000E+00"/>
      </geometry>
    </collision>
  </link>
  <joint name="link_coacd_convex_piece_38_joint" type="fixed">
    <origin xyz="0 0 0" rpy="0 0 0"/>
    <parent link="link_coacd_convex_piece_37"/>
    <child link="link_coacd_convex_piece_38"/>
  </joint>
  <link name="link_coacd_convex_piece_39">
    <inertial>
      <origin xyz="0 0 0" rpy="0 0 0"/>
      <inertia ixx="1.66E-09" ixy="-2.77E-10" ixz="1.05E-10" iyy="2.38E-10" iyz="5.37E-10" izz="1.56E-09"/>
    </inertial>
    <visual>
      <origin xyz="0 0 0" rpy="0 0 0"/>
      <geometry>
        <mesh filename="coacd_convex_piece_39.obj" scale="1.0000E+00 1.0000E+00 1.0000E+00"/>
      </geometry>
      <material name="">
        <color rgba="7.50E-01 7.50E-01 7.50E-01 1"/>
      </material>
    </visual>
    <collision>
      <origin xyz="0 0 0" rpy="0 0 0"/>
      <geometry>
        <mesh filename="coacd_convex_piece_39.obj" scale="1.0000E+00 1.0000E+00 1.0000E+00"/>
      </geometry>
    </collision>
  </link>
  <joint name="link_coacd_convex_piece_39_joint" type="fixed">
    <origin xyz="0 0 0" rpy="0 0 0"/>
    <parent link="link_coacd_convex_piece_38"/>
    <child link="link_coacd_convex_piece_39"/>
  </joint>
  <link name="link_coacd_convex_piece_40">
    <inertial>
      <origin xyz="0 0 0" rpy="0 0 0"/>
      <inertia ixx="2.70E-09" ixy="4.47E-10" ixz="-1.21E-10" iyy="2.85E-10" iyz="7.13E-10" izz="2.63E-09"/>
    </inertial>
    <visual>
      <origin xyz="0 0 0" rpy="0 0 0"/>
      <geometry>
        <mesh filename="coacd_convex_piece_40.obj" scale="1.0000E+00 1.0000E+00 1.0000E+00"/>
      </geometry>
      <material name="">
        <color rgba="7.50E-01 7.50E-01 7.50E-01 1"/>
      </material>
    </visual>
    <collision>
      <origin xyz="0 0 0" rpy="0 0 0"/>
      <geometry>
        <mesh filename="coacd_convex_piece_40.obj" scale="1.0000E+00 1.0000E+00 1.0000E+00"/>
      </geometry>
    </collision>
  </link>
  <joint name="link_coacd_convex_piece_40_joint" type="fixed">
    <origin xyz="0 0 0" rpy="0 0 0"/>
    <parent link="link_coacd_convex_piece_39"/>
    <child link="link_coacd_convex_piece_40"/>
  </joint>
  <link name="link_coacd_convex_piece_41">
    <inertial>
      <origin xyz="0 0 0" rpy="0 0 0"/>
      <inertia ixx="4.47E-10" ixy="3.82E-10" ixz="-9.14E-11" iyy="3.62E-10" iyz="1.03E-10" izz="7.75E-10"/>
    </inertial>
    <visual>
      <origin xyz="0 0 0" rpy="0 0 0"/>
      <geometry>
        <mesh filename="coacd_convex_piece_41.obj" scale="1.0000E+00 1.0000E+00 1.0000E+00"/>
      </geometry>
      <material name="">
        <color rgba="7.50E-01 7.50E-01 7.50E-01 1"/>
      </material>
    </visual>
    <collision>
      <origin xyz="0 0 0" rpy="0 0 0"/>
      <geometry>
        <mesh filename="coacd_convex_piece_41.obj" scale="1.0000E+00 1.0000E+00 1.0000E+00"/>
      </geometry>
    </collision>
  </link>
  <joint name="link_coacd_convex_piece_41_joint" type="fixed">
    <origin xyz="0 0 0" rpy="0 0 0"/>
    <parent link="link_coacd_convex_piece_40"/>
    <child link="link_coacd_convex_piece_41"/>
  </joint>
  <link name="link_coacd_convex_piece_42">
    <inertial>
      <origin xyz="0 0 0" rpy="0 0 0"/>
      <inertia ixx="1.23E-09" ixy="3.43E-10" ixz="1.12E-09" iyy="2.51E-09" iyz="-3.42E-10" izz="1.54E-09"/>
    </inertial>
    <visual>
      <origin xyz="0 0 0" rpy="0 0 0"/>
      <geometry>
        <mesh filename="coacd_convex_piece_42.obj" scale="1.0000E+00 1.0000E+00 1.0000E+00"/>
      </geometry>
      <material name="">
        <color rgba="7.50E-01 7.50E-01 7.50E-01 1"/>
      </material>
    </visual>
    <collision>
      <origin xyz="0 0 0" rpy="0 0 0"/>
      <geometry>
        <mesh filename="coacd_convex_piece_42.obj" scale="1.0000E+00 1.0000E+00 1.0000E+00"/>
      </geometry>
    </collision>
  </link>
  <joint name="link_coacd_convex_piece_42_joint" type="fixed">
    <origin xyz="0 0 0" rpy="0 0 0"/>
    <parent link="link_coacd_convex_piece_41"/>
    <child link="link_coacd_convex_piece_42"/>
  </joint>
  <link name="link_coacd_convex_piece_43">
    <inertial>
      <origin xyz="0 0 0" rpy="0 0 0"/>
      <inertia ixx="1.39E-09" ixy="-3.68E-10" ixz="-6.80E-11" iyy="1.70E-10" iyz="-2.58E-10" izz="1.49E-09"/>
    </inertial>
    <visual>
      <origin xyz="0 0 0" rpy="0 0 0"/>
      <geometry>
        <mesh filename="coacd_convex_piece_43.obj" scale="1.0000E+00 1.0000E+00 1.0000E+00"/>
      </geometry>
      <material name="">
        <color rgba="7.50E-01 7.50E-01 7.50E-01 1"/>
      </material>
    </visual>
    <collision>
      <origin xyz="0 0 0" rpy="0 0 0"/>
      <geometry>
        <mesh filename="coacd_convex_piece_43.obj" scale="1.0000E+00 1.0000E+00 1.0000E+00"/>
      </geometry>
    </collision>
  </link>
  <joint name="link_coacd_convex_piece_43_joint" type="fixed">
    <origin xyz="0 0 0" rpy="0 0 0"/>
    <parent link="link_coacd_convex_piece_42"/>
    <child link="link_coacd_convex_piece_43"/>
  </joint>
  <link name="link_coacd_convex_piece_44">
    <inertial>
      <origin xyz="0 0 0" rpy="0 0 0"/>
      <inertia ixx="5.24E-10" ixy="-5.21E-10" ixz="2.95E-10" iyy="7.80E-10" iyz="2.27E-10" izz="1.09E-09"/>
    </inertial>
    <visual>
      <origin xyz="0 0 0" rpy="0 0 0"/>
      <geometry>
        <mesh filename="coacd_convex_piece_44.obj" scale="1.0000E+00 1.0000E+00 1.0000E+00"/>
      </geometry>
      <material name="">
        <color rgba="7.50E-01 7.50E-01 7.50E-01 1"/>
      </material>
    </visual>
    <collision>
      <origin xyz="0 0 0" rpy="0 0 0"/>
      <geometry>
        <mesh filename="coacd_convex_piece_44.obj" scale="1.0000E+00 1.0000E+00 1.0000E+00"/>
      </geometry>
    </collision>
  </link>
  <joint name="link_coacd_convex_piece_44_joint" type="fixed">
    <origin xyz="0 0 0" rpy="0 0 0"/>
    <parent link="link_coacd_convex_piece_43"/>
    <child link="link_coacd_convex_piece_44"/>
  </joint>
  <link name="link_coacd_convex_piece_45">
    <inertial>
      <origin xyz="0 0 0" rpy="0 0 0"/>
      <inertia ixx="3.69E-10" ixy="2.52E-10" ixz="7.11E-11" iyy="2.16E-10" iyz="-8.62E-11" izz="6.10E-10"/>
    </inertial>
    <visual>
      <origin xyz="0 0 0" rpy="0 0 0"/>
      <geometry>
        <mesh filename="coacd_convex_piece_45.obj" scale="1.0000E+00 1.0000E+00 1.0000E+00"/>
      </geometry>
      <material name="">
        <color rgba="7.50E-01 7.50E-01 7.50E-01 1"/>
      </material>
    </visual>
    <collision>
      <origin xyz="0 0 0" rpy="0 0 0"/>
      <geometry>
        <mesh filename="coacd_convex_piece_45.obj" scale="1.0000E+00 1.0000E+00 1.0000E+00"/>
      </geometry>
    </collision>
  </link>
  <joint name="link_coacd_convex_piece_45_joint" type="fixed">
    <origin xyz="0 0 0" rpy="0 0 0"/>
    <parent link="link_coacd_convex_piece_44"/>
    <child link="link_coacd_convex_piece_45"/>
  </joint>
  <link name="link_coacd_convex_piece_46">
    <inertial>
      <origin xyz="0 0 0" rpy="0 0 0"/>
      <inertia ixx="3.77E-09" ixy="-8.83E-10" ixz="-2.65E-10" iyy="6.14E-10" iyz="-1.07E-09" izz="3.80E-09"/>
    </inertial>
    <visual>
      <origin xyz="0 0 0" rpy="0 0 0"/>
      <geometry>
        <mesh filename="coacd_convex_piece_46.obj" scale="1.0000E+00 1.0000E+00 1.0000E+00"/>
      </geometry>
      <material name="">
        <color rgba="7.50E-01 7.50E-01 7.50E-01 1"/>
      </material>
    </visual>
    <collision>
      <origin xyz="0 0 0" rpy="0 0 0"/>
      <geometry>
        <mesh filename="coacd_convex_piece_46.obj" scale="1.0000E+00 1.0000E+00 1.0000E+00"/>
      </geometry>
    </collision>
  </link>
  <joint name="link_coacd_convex_piece_46_joint" type="fixed">
    <origin xyz="0 0 0" rpy="0 0 0"/>
    <parent link="link_coacd_convex_piece_45"/>
    <child link="link_coacd_convex_piece_46"/>
  </joint>
  <link name="link_coacd_convex_piece_47">
    <inertial>
      <origin xyz="0 0 0" rpy="0 0 0"/>
      <inertia ixx="1.74E-09" ixy="3.58E-10" ixz="-1.31E-10" iyy="3.00E-10" iyz="5.79E-10" izz="1.66E-09"/>
    </inertial>
    <visual>
      <origin xyz="0 0 0" rpy="0 0 0"/>
      <geometry>
        <mesh filename="coacd_convex_piece_47.obj" scale="1.0000E+00 1.0000E+00 1.0000E+00"/>
      </geometry>
      <material name="">
        <color rgba="7.50E-01 7.50E-01 7.50E-01 1"/>
      </material>
    </visual>
    <collision>
      <origin xyz="0 0 0" rpy="0 0 0"/>
      <geometry>
        <mesh filename="coacd_convex_piece_47.obj" scale="1.0000E+00 1.0000E+00 1.0000E+00"/>
      </geometry>
    </collision>
  </link>
  <joint name="link_coacd_convex_piece_47_joint" type="fixed">
    <origin xyz="0 0 0" rpy="0 0 0"/>
    <parent link="link_coacd_convex_piece_46"/>
    <child link="link_coacd_convex_piece_47"/>
  </joint>
  <link name="link_coacd_convex_piece_48">
    <inertial>
      <origin xyz="0 0 0" rpy="0 0 0"/>
      <inertia ixx="3.50E-10" ixy="3.89E-10" ixz="-3.09E-10" iyy="8.19E-10" iyz="1.73E-10" izz="9.23E-10"/>
    </inertial>
    <visual>
      <origin xyz="0 0 0" rpy="0 0 0"/>
      <geometry>
        <mesh filename="coacd_convex_piece_48.obj" scale="1.0000E+00 1.0000E+00 1.0000E+00"/>
      </geometry>
      <material name="">
        <color rgba="7.50E-01 7.50E-01 7.50E-01 1"/>
      </material>
    </visual>
    <collision>
      <origin xyz="0 0 0" rpy="0 0 0"/>
      <geometry>
        <mesh filename="coacd_convex_piece_48.obj" scale="1.0000E+00 1.0000E+00 1.0000E+00"/>
      </geometry>
    </collision>
  </link>
  <joint name="link_coacd_convex_piece_48_joint" type="fixed">
    <origin xyz="0 0 0" rpy="0 0 0"/>
    <parent link="link_coacd_convex_piece_47"/>
    <child link="link_coacd_convex_piece_48"/>
  </joint>
  <link name="link_coacd_convex_piece_49">
    <inertial>
      <origin xyz="0 0 0" rpy="0 0 0"/>
      <inertia ixx="1.22E-09" ixy="-7.11E-10" ixz="-2.37E-10" iyy="5.80E-10" iyz="-3.79E-10" izz="1.57E-09"/>
    </inertial>
    <visual>
      <origin xyz="0 0 0" rpy="0 0 0"/>
      <geometry>
        <mesh filename="coacd_convex_piece_49.obj" scale="1.0000E+00 1.0000E+00 1.0000E+00"/>
      </geometry>
      <material name="">
        <color rgba="7.50E-01 7.50E-01 7.50E-01 1"/>
      </material>
    </visual>
    <collision>
      <origin xyz="0 0 0" rpy="0 0 0"/>
      <geometry>
        <mesh filename="coacd_convex_piece_49.obj" scale="1.0000E+00 1.0000E+00 1.0000E+00"/>
      </geometry>
    </collision>
  </link>
  <joint name="link_coacd_convex_piece_49_joint" type="fixed">
    <origin xyz="0 0 0" rpy="0 0 0"/>
    <parent link="link_coacd_convex_piece_48"/>
    <child link="link_coacd_convex_piece_49"/>
  </joint>
  <link name="link_coacd_convex_piece_50">
    <inertial>
      <origin xyz="0 0 0" rpy="0 0 0"/>
      <inertia ixx="2.36E-10" ixy="-1.20E-10" ixz="3.51E-10" iyy="7.61E-10" iyz="7.24E-11" izz="5.93E-10"/>
    </inertial>
    <visual>
      <origin xyz="0 0 0" rpy="0 0 0"/>
      <geometry>
        <mesh filename="coacd_convex_piece_50.obj" scale="1.0000E+00 1.0000E+00 1.0000E+00"/>
      </geometry>
      <material name="">
        <color rgba="7.50E-01 7.50E-01 7.50E-01 1"/>
      </material>
    </visual>
    <collision>
      <origin xyz="0 0 0" rpy="0 0 0"/>
      <geometry>
        <mesh filename="coacd_convex_piece_50.obj" scale="1.0000E+00 1.0000E+00 1.0000E+00"/>
      </geometry>
    </collision>
  </link>
  <joint name="link_coacd_convex_piece_50_joint" type="fixed">
    <origin xyz="0 0 0" rpy="0 0 0"/>
    <parent link="link_coacd_convex_piece_49"/>
    <child link="link_coacd_convex_piece_50"/>
  </joint>
  <link name="link_coacd_convex_piece_51">
    <inertial>
      <origin xyz="0 0 0" rpy="0 0 0"/>
      <inertia ixx="3.37E-10" ixy="-3.52E-10" ixz="-2.44E-10" iyy="6.39E-10" iyz="-1.63E-10" izz="7.73E-10"/>
    </inertial>
    <visual>
      <origin xyz="0 0 0" rpy="0 0 0"/>
      <geometry>
        <mesh filename="coacd_convex_piece_51.obj" scale="1.0000E+00 1.0000E+00 1.0000E+00"/>
      </geometry>
      <material name="">
        <color rgba="7.50E-01 7.50E-01 7.50E-01 1"/>
      </material>
    </visual>
    <collision>
      <origin xyz="0 0 0" rpy="0 0 0"/>
      <geometry>
        <mesh filename="coacd_convex_piece_51.obj" scale="1.0000E+00 1.0000E+00 1.0000E+00"/>
      </geometry>
    </collision>
  </link>
  <joint name="link_coacd_convex_piece_51_joint" type="fixed">
    <origin xyz="0 0 0" rpy="0 0 0"/>
    <parent link="link_coacd_convex_piece_50"/>
    <child link="link_coacd_convex_piece_51"/>
  </joint>
  <link name="link_coacd_convex_piece_52">
    <inertial>
      <origin xyz="0 0 0" rpy="0 0 0"/>
      <inertia ixx="3.19E-09" ixy="4.95E-11" ixz="2.43E-11" iyy="5.61E-10" iyz="-1.09E-09" izz="3.00E-09"/>
    </inertial>
    <visual>
      <origin xyz="0 0 0" rpy="0 0 0"/>
      <geometry>
        <mesh filename="coacd_convex_piece_52.obj" scale="1.0000E+00 1.0000E+00 1.0000E+00"/>
      </geometry>
      <material name="">
        <color rgba="7.50E-01 7.50E-01 7.50E-01 1"/>
      </material>
    </visual>
    <collision>
      <origin xyz="0 0 0" rpy="0 0 0"/>
      <geometry>
        <mesh filename="coacd_convex_piece_52.obj" scale="1.0000E+00 1.0000E+00 1.0000E+00"/>
      </geometry>
    </collision>
  </link>
  <joint name="link_coacd_convex_piece_52_joint" type="fixed">
    <origin xyz="0 0 0" rpy="0 0 0"/>
    <parent link="link_coacd_convex_piece_51"/>
    <child link="link_coacd_convex_piece_52"/>
  </joint>
  <link name="link_coacd_convex_piece_53">
    <inertial>
      <origin xyz="0 0 0" rpy="0 0 0"/>
      <inertia ixx="1.63E-09" ixy="-7.38E-10" ixz="2.57E-10" iyy="5.30E-10" iyz="5.01E-10" izz="1.85E-09"/>
    </inertial>
    <visual>
      <origin xyz="0 0 0" rpy="0 0 0"/>
      <geometry>
        <mesh filename="coacd_convex_piece_53.obj" scale="1.0000E+00 1.0000E+00 1.0000E+00"/>
      </geometry>
      <material name="">
        <color rgba="7.50E-01 7.50E-01 7.50E-01 1"/>
      </material>
    </visual>
    <collision>
      <origin xyz="0 0 0" rpy="0 0 0"/>
      <geometry>
        <mesh filename="coacd_convex_piece_53.obj" scale="1.0000E+00 1.0000E+00 1.0000E+00"/>
      </geometry>
    </collision>
  </link>
  <joint name="link_coacd_convex_piece_53_joint" type="fixed">
    <origin xyz="0 0 0" rpy="0 0 0"/>
    <parent link="link_coacd_convex_piece_52"/>
    <child link="link_coacd_convex_piece_53"/>
  </joint>
  <link name="link_coacd_convex_piece_54">
    <inertial>
      <origin xyz="0 0 0" rpy="0 0 0"/>
      <inertia ixx="3.75E-10" ixy="2.96E-10" ixz="2.96E-10" iyy="6.78E-10" iyz="-1.97E-10" izz="7.45E-10"/>
    </inertial>
    <visual>
      <origin xyz="0 0 0" rpy="0 0 0"/>
      <geometry>
        <mesh filename="coacd_convex_piece_54.obj" scale="1.0000E+00 1.0000E+00 1.0000E+00"/>
      </geometry>
      <material name="">
        <color rgba="7.50E-01 7.50E-01 7.50E-01 1"/>
      </material>
    </visual>
    <collision>
      <origin xyz="0 0 0" rpy="0 0 0"/>
      <geometry>
        <mesh filename="coacd_convex_piece_54.obj" scale="1.0000E+00 1.0000E+00 1.0000E+00"/>
      </geometry>
    </collision>
  </link>
  <joint name="link_coacd_convex_piece_54_joint" type="fixed">
    <origin xyz="0 0 0" rpy="0 0 0"/>
    <parent link="link_coacd_convex_piece_53"/>
    <child link="link_coacd_convex_piece_54"/>
  </joint>
  <link name="link_coacd_convex_piece_55">
    <inertial>
      <origin xyz="0 0 0" rpy="0 0 0"/>
      <inertia ixx="6.61E-10" ixy="8.57E-10" ixz="1.30E-10" iyy="1.15E-09" iyz="-9.79E-11" izz="1.81E-09"/>
    </inertial>
    <visual>
      <origin xyz="0 0 0" rpy="0 0 0"/>
      <geometry>
        <mesh filename="coacd_convex_piece_55.obj" scale="1.0000E+00 1.0000E+00 1.0000E+00"/>
      </geometry>
      <material name="">
        <color rgba="7.50E-01 7.50E-01 7.50E-01 1"/>
      </material>
    </visual>
    <collision>
      <origin xyz="0 0 0" rpy="0 0 0"/>
      <geometry>
        <mesh filename="coacd_convex_piece_55.obj" scale="1.0000E+00 1.0000E+00 1.0000E+00"/>
      </geometry>
    </collision>
  </link>
  <joint name="link_coacd_convex_piece_55_joint" type="fixed">
    <origin xyz="0 0 0" rpy="0 0 0"/>
    <parent link="link_coacd_convex_piece_54"/>
    <child link="link_coacd_convex_piece_55"/>
  </joint>
  <link name="link_coacd_convex_piece_56">
    <inertial>
      <origin xyz="0 0 0" rpy="0 0 0"/>
      <inertia ixx="4.26E-09" ixy="9.86E-10" ixz="2.80E-10" iyy="6.08E-10" iyz="-1.10E-09" izz="4.34E-09"/>
    </inertial>
    <visual>
      <origin xyz="0 0 0" rpy="0 0 0"/>
      <geometry>
        <mesh filename="coacd_convex_piece_56.obj" scale="1.0000E+00 1.0000E+00 1.0000E+00"/>
      </geometry>
      <material name="">
        <color rgba="7.50E-01 7.50E-01 7.50E-01 1"/>
      </material>
    </visual>
    <collision>
      <origin xyz="0 0 0" rpy="0 0 0"/>
      <geometry>
        <mesh filename="coacd_convex_piece_56.obj" scale="1.0000E+00 1.0000E+00 1.0000E+00"/>
      </geometry>
    </collision>
  </link>
  <joint name="link_coacd_convex_piece_56_joint" type="fixed">
    <origin xyz="0 0 0" rpy="0 0 0"/>
    <parent link="link_coacd_convex_piece_55"/>
    <child link="link_coacd_convex_piece_56"/>
  </joint>
  <link name="link_coacd_convex_piece_57">
    <inertial>
      <origin xyz="0 0 0" rpy="0 0 0"/>
      <inertia ixx="5.57E-10" ixy="6.33E-10" ixz="4.61E-10" iyy="1.24E-09" iyz="-2.70E-10" izz="1.47E-09"/>
    </inertial>
    <visual>
      <origin xyz="0 0 0" rpy="0 0 0"/>
      <geometry>
        <mesh filename="coacd_convex_piece_57.obj" scale="1.0000E+00 1.0000E+00 1.0000E+00"/>
      </geometry>
      <material name="">
        <color rgba="7.50E-01 7.50E-01 7.50E-01 1"/>
      </material>
    </visual>
    <collision>
      <origin xyz="0 0 0" rpy="0 0 0"/>
      <geometry>
        <mesh filename="coacd_convex_piece_57.obj" scale="1.0000E+00 1.0000E+00 1.0000E+00"/>
      </geometry>
    </collision>
  </link>
  <joint name="link_coacd_convex_piece_57_joint" type="fixed">
    <origin xyz="0 0 0" rpy="0 0 0"/>
    <parent link="link_coacd_convex_piece_56"/>
    <child link="link_coacd_convex_piece_57"/>
  </joint>
  <link name="link_coacd_convex_piece_58">
    <inertial>
      <origin xyz="0 0 0" rpy="0 0 0"/>
      <inertia ixx="1.15E-09" ixy="9.43E-10" ixz="-4.32E-10" iyy="1.12E-09" iyz="4.36E-10" izz="1.91E-09"/>
    </inertial>
    <visual>
      <origin xyz="0 0 0" rpy="0 0 0"/>
      <geometry>
        <mesh filename="coacd_convex_piece_58.obj" scale="1.0000E+00 1.0000E+00 1.0000E+00"/>
      </geometry>
      <material name="">
        <color rgba="7.50E-01 7.50E-01 7.50E-01 1"/>
      </material>
    </visual>
    <collision>
      <origin xyz="0 0 0" rpy="0 0 0"/>
      <geometry>
        <mesh filename="coacd_convex_piece_58.obj" scale="1.0000E+00 1.0000E+00 1.0000E+00"/>
      </geometry>
    </collision>
  </link>
  <joint name="link_coacd_convex_piece_58_joint" type="fixed">
    <origin xyz="0 0 0" rpy="0 0 0"/>
    <parent link="link_coacd_convex_piece_57"/>
    <child link="link_coacd_convex_piece_58"/>
  </joint>
  <link name="link_coacd_convex_piece_59">
    <inertial>
      <origin xyz="0 0 0" rpy="0 0 0"/>
      <inertia ixx="5.37E-11" ixy="-6.75E-11" ixz="-6.41E-11" iyy="1.77E-10" iyz="-2.88E-11" izz="1.83E-10"/>
    </inertial>
    <visual>
      <origin xyz="0 0 0" rpy="0 0 0"/>
      <geometry>
        <mesh filename="coacd_convex_piece_59.obj" scale="1.0000E+00 1.0000E+00 1.0000E+00"/>
      </geometry>
      <material name="">
        <color rgba="7.50E-01 7.50E-01 7.50E-01 1"/>
      </material>
    </visual>
    <collision>
      <origin xyz="0 0 0" rpy="0 0 0"/>
      <geometry>
        <mesh filename="coacd_convex_piece_59.obj" scale="1.0000E+00 1.0000E+00 1.0000E+00"/>
      </geometry>
    </collision>
  </link>
  <joint name="link_coacd_convex_piece_59_joint" type="fixed">
    <origin xyz="0 0 0" rpy="0 0 0"/>
    <parent link="link_coacd_convex_piece_58"/>
    <child link="link_coacd_convex_piece_59"/>
  </joint>
  <link name="link_coacd_convex_piece_60">
    <inertial>
      <origin xyz="0 0 0" rpy="0 0 0"/>
      <inertia ixx="6.75E-10" ixy="8.01E-10" ixz="3.78E-10" iyy="1.26E-09" iyz="-2.64E-10" izz="1.72E-09"/>
    </inertial>
    <visual>
      <origin xyz="0 0 0" rpy="0 0 0"/>
      <geometry>
        <mesh filename="coacd_convex_piece_60.obj" scale="1.0000E+00 1.0000E+00 1.0000E+00"/>
      </geometry>
      <material name="">
        <color rgba="7.50E-01 7.50E-01 7.50E-01 1"/>
      </material>
    </visual>
    <collision>
      <origin xyz="0 0 0" rpy="0 0 0"/>
      <geometry>
        <mesh filename="coacd_convex_piece_60.obj" scale="1.0000E+00 1.0000E+00 1.0000E+00"/>
      </geometry>
    </collision>
  </link>
  <joint name="link_coacd_convex_piece_60_joint" type="fixed">
    <origin xyz="0 0 0" rpy="0 0 0"/>
    <parent link="link_coacd_convex_piece_59"/>
    <child link="link_coacd_convex_piece_60"/>
  </joint>
  <link name="link_coacd_convex_piece_61">
    <inertial>
      <origin xyz="0 0 0" rpy="0 0 0"/>
      <inertia ixx="7.59E-10" ixy="6.84E-10" ixz="3.26E-10" iyy="8.69E-10" iyz="-2.98E-10" izz="1.38E-09"/>
    </inertial>
    <visual>
      <origin xyz="0 0 0" rpy="0 0 0"/>
      <geometry>
        <mesh filename="coacd_convex_piece_61.obj" scale="1.0000E+00 1.0000E+00 1.0000E+00"/>
      </geometry>
      <material name="">
        <color rgba="7.50E-01 7.50E-01 7.50E-01 1"/>
      </material>
    </visual>
    <collision>
      <origin xyz="0 0 0" rpy="0 0 0"/>
      <geometry>
        <mesh filename="coacd_convex_piece_61.obj" scale="1.0000E+00 1.0000E+00 1.0000E+00"/>
      </geometry>
    </collision>
  </link>
  <joint name="link_coacd_convex_piece_61_joint" type="fixed">
    <origin xyz="0 0 0" rpy="0 0 0"/>
    <parent link="link_coacd_convex_piece_60"/>
    <child link="link_coacd_convex_piece_61"/>
  </joint>
  <link name="link_coacd_convex_piece_62">
    <inertial>
      <origin xyz="0 0 0" rpy="0 0 0"/>
      <inertia ixx="2.51E-10" ixy="-1.60E-10" ixz="-3.84E-10" iyy="8.90E-10" iyz="-8.98E-11" izz="7.35E-10"/>
    </inertial>
    <visual>
      <origin xyz="0 0 0" rpy="0 0 0"/>
      <geometry>
        <mesh filename="coacd_convex_piece_62.obj" scale="1.0000E+00 1.0000E+00 1.0000E+00"/>
      </geometry>
      <material name="">
        <color rgba="7.50E-01 7.50E-01 7.50E-01 1"/>
      </material>
    </visual>
    <collision>
      <origin xyz="0 0 0" rpy="0 0 0"/>
      <geometry>
        <mesh filename="coacd_convex_piece_62.obj" scale="1.0000E+00 1.0000E+00 1.0000E+00"/>
      </geometry>
    </collision>
  </link>
  <joint name="link_coacd_convex_piece_62_joint" type="fixed">
    <origin xyz="0 0 0" rpy="0 0 0"/>
    <parent link="link_coacd_convex_piece_61"/>
    <child link="link_coacd_convex_piece_62"/>
  </joint>
  <link name="link_coacd_convex_piece_63">
    <inertial>
      <origin xyz="0 0 0" rpy="0 0 0"/>
      <inertia ixx="1.18E-09" ixy="-8.54E-10" ixz="3.35E-10" iyy="8.49E-10" iyz="3.96E-10" izz="1.76E-09"/>
    </inertial>
    <visual>
      <origin xyz="0 0 0" rpy="0 0 0"/>
      <geometry>
        <mesh filename="coacd_convex_piece_63.obj" scale="1.0000E+00 1.0000E+00 1.0000E+00"/>
      </geometry>
      <material name="">
        <color rgba="7.50E-01 7.50E-01 7.50E-01 1"/>
      </material>
    </visual>
    <collision>
      <origin xyz="0 0 0" rpy="0 0 0"/>
      <geometry>
        <mesh filename="coacd_convex_piece_63.obj" scale="1.0000E+00 1.0000E+00 1.0000E+00"/>
      </geometry>
    </collision>
  </link>
  <joint name="link_coacd_convex_piece_63_joint" type="fixed">
    <origin xyz="0 0 0" rpy="0 0 0"/>
    <parent link="link_coacd_convex_piece_62"/>
    <child link="link_coacd_convex_piece_63"/>
  </joint>
  <link name="link_coacd_convex_piece_64">
    <inertial>
      <origin xyz="0 0 0" rpy="0 0 0"/>
      <inertia ixx="5.99E-11" ixy="5.83E-11" ixz="-4.95E-11" iyy="1.20E-10" iyz="3.02E-11" izz="1.32E-10"/>
    </inertial>
    <visual>
      <origin xyz="0 0 0" rpy="0 0 0"/>
      <geometry>
        <mesh filename="coacd_convex_piece_64.obj" scale="1.0000E+00 1.0000E+00 1.0000E+00"/>
      </geometry>
      <material name="">
        <color rgba="7.50E-01 7.50E-01 7.50E-01 1"/>
      </material>
    </visual>
    <collision>
      <origin xyz="0 0 0" rpy="0 0 0"/>
      <geometry>
        <mesh filename="coacd_convex_piece_64.obj" scale="1.0000E+00 1.0000E+00 1.0000E+00"/>
      </geometry>
    </collision>
  </link>
  <joint name="link_coacd_convex_piece_64_joint" type="fixed">
    <origin xyz="0 0 0" rpy="0 0 0"/>
    <parent link="link_coacd_convex_piece_63"/>
    <child link="link_coacd_convex_piece_64"/>
  </joint>
  <link name="link_coacd_convex_piece_65">
    <inertial>
      <origin xyz="0 0 0" rpy="0 0 0"/>
      <inertia ixx="2.53E-10" ixy="1.41E-10" ixz="-3.75E-10" iyy="8.46E-10" iyz="8.16E-11" izz="6.76E-10"/>
    </inertial>
    <visual>
      <origin xyz="0 0 0" rpy="0 0 0"/>
      <geometry>
        <mesh filename="coacd_convex_piece_65.obj" scale="1.0000E+00 1.0000E+00 1.0000E+00"/>
      </geometry>
      <material name="">
        <color rgba="7.50E-01 7.50E-01 7.50E-01 1"/>
      </material>
    </visual>
    <collision>
      <origin xyz="0 0 0" rpy="0 0 0"/>
      <geometry>
        <mesh filename="coacd_convex_piece_65.obj" scale="1.0000E+00 1.0000E+00 1.0000E+00"/>
      </geometry>
    </collision>
  </link>
  <joint name="link_coacd_convex_piece_65_joint" type="fixed">
    <origin xyz="0 0 0" rpy="0 0 0"/>
    <parent link="link_coacd_convex_piece_64"/>
    <child link="link_coacd_convex_piece_65"/>
  </joint>
  <link name="link_coacd_convex_piece_66">
    <inertial>
      <origin xyz="0 0 0" rpy="0 0 0"/>
      <inertia ixx="5.22E-10" ixy="-4.03E-10" ixz="8.35E-11" iyy="3.36E-10" iyz="1.02E-10" izz="8.34E-10"/>
    </inertial>
    <visual>
      <origin xyz="0 0 0" rpy="0 0 0"/>
      <geometry>
        <mesh filename="coacd_convex_piece_66.obj" scale="1.0000E+00 1.0000E+00 1.0000E+00"/>
      </geometry>
      <material name="">
        <color rgba="7.50E-01 7.50E-01 7.50E-01 1"/>
      </material>
    </visual>
    <collision>
      <origin xyz="0 0 0" rpy="0 0 0"/>
      <geometry>
        <mesh filename="coacd_convex_piece_66.obj" scale="1.0000E+00 1.0000E+00 1.0000E+00"/>
      </geometry>
    </collision>
  </link>
  <joint name="link_coacd_convex_piece_66_joint" type="fixed">
    <origin xyz="0 0 0" rpy="0 0 0"/>
    <parent link="link_coacd_convex_piece_65"/>
    <child link="link_coacd_convex_piece_66"/>
  </joint>
  <link name="link_coacd_convex_piece_67">
    <inertial>
      <origin xyz="0 0 0" rpy="0 0 0"/>
      <inertia ixx="2.12E-09" ixy="1.34E-09" ixz="4.54E-10" iyy="1.16E-09" iyz="-6.49E-10" izz="2.90E-09"/>
    </inertial>
    <visual>
      <origin xyz="0 0 0" rpy="0 0 0"/>
      <geometry>
        <mesh filename="coacd_convex_piece_67.obj" scale="1.0000E+00 1.0000E+00 1.0000E+00"/>
      </geometry>
      <material name="">
        <color rgba="7.50E-01 7.50E-01 7.50E-01 1"/>
      </material>
    </visual>
    <collision>
      <origin xyz="0 0 0" rpy="0 0 0"/>
      <geometry>
        <mesh filename="coacd_convex_piece_67.obj" scale="1.0000E+00 1.0000E+00 1.0000E+00"/>
      </geometry>
    </collision>
  </link>
  <joint name="link_coacd_convex_piece_67_joint" type="fixed">
    <origin xyz="0 0 0" rpy="0 0 0"/>
    <parent link="link_coacd_convex_piece_66"/>
    <child link="link_coacd_convex_piece_67"/>
  </joint>
  <link name="link_coacd_convex_piece_68">
    <inertial>
      <origin xyz="0 0 0" rpy="0 0 0"/>
      <inertia ixx="2.02E-11" ixy="7.66E-12" ixz="2.83E-12" iyy="5.35E-12" iyz="-6.59E-12" izz="2.13E-11"/>
    </inertial>
    <visual>
      <origin xyz="0 0 0" rpy="0 0 0"/>
      <geometry>
        <mesh filename="coacd_convex_piece_68.obj" scale="1.0000E+00 1.0000E+00 1.0000E+00"/>
      </geometry>
      <material name="">
        <color rgba="7.50E-01 7.50E-01 7.50E-01 1"/>
      </material>
    </visual>
    <collision>
      <origin xyz="0 0 0" rpy="0 0 0"/>
      <geometry>
        <mesh filename="coacd_convex_piece_68.obj" scale="1.0000E+00 1.0000E+00 1.0000E+00"/>
      </geometry>
    </collision>
  </link>
  <joint name="link_coacd_convex_piece_68_joint" type="fixed">
    <origin xyz="0 0 0" rpy="0 0 0"/>
    <parent link="link_coacd_convex_piece_67"/>
    <child link="link_coacd_convex_piece_68"/>
  </joint>
</robot>
